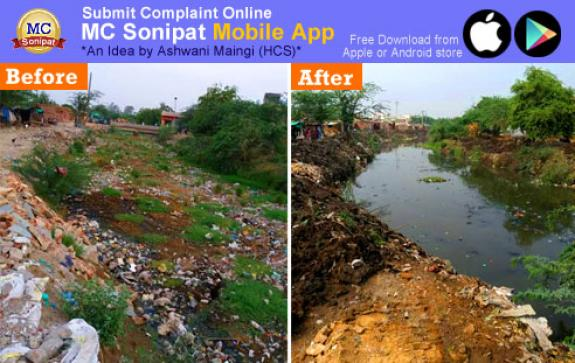BAD: (121, 255, 197, 332), (66, 214, 144, 276), (163, 310, 240, 361), (178, 260, 222, 296)
IGNORE: (4, 66, 83, 88), (298, 68, 357, 88)
